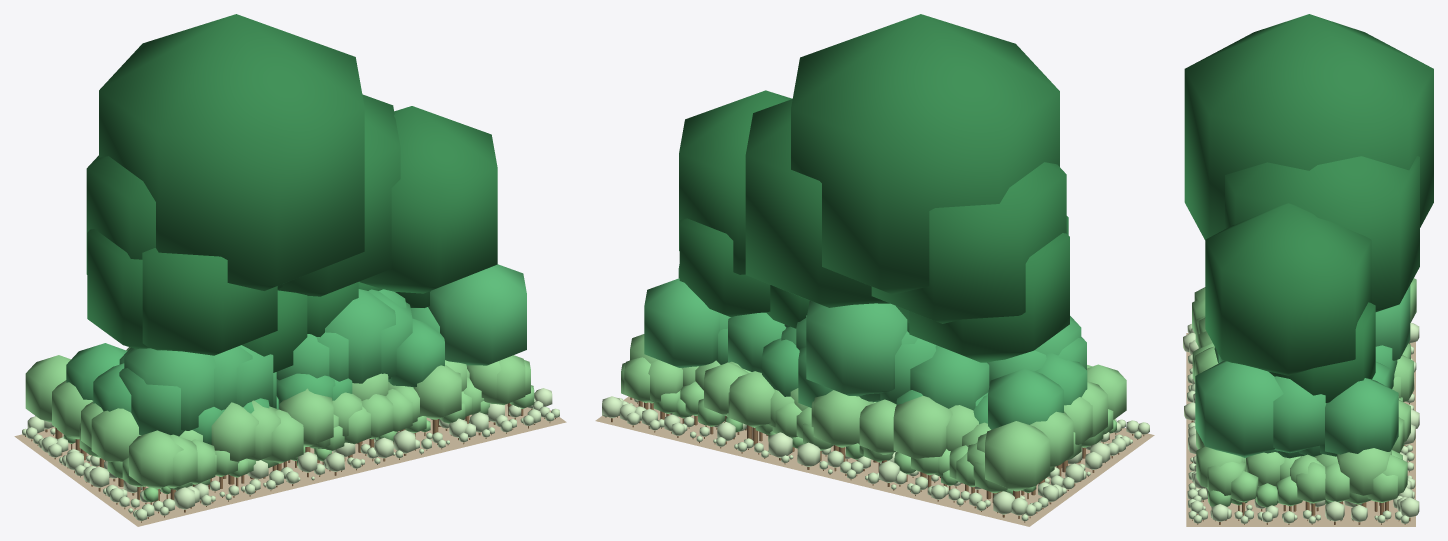
Rendered from HyphaPod_3D.glb.
The picture shows the model from 3 angles, left to right: view 1: azimuth 30°, elevation 25°; view 2: azimuth 150°, elevation 25°; view 3: azimuth 270°, elevation 25°; orthographic projection. The views are drawn at different scales.
Bounding box in the file's own units: 20.19 × 18.9 × 10.92.
